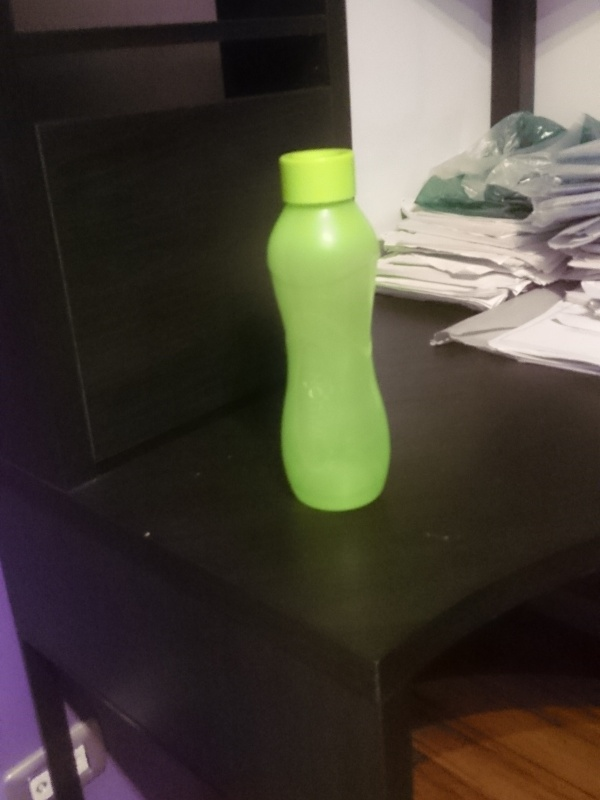my bottle: (270, 147, 389, 510)
